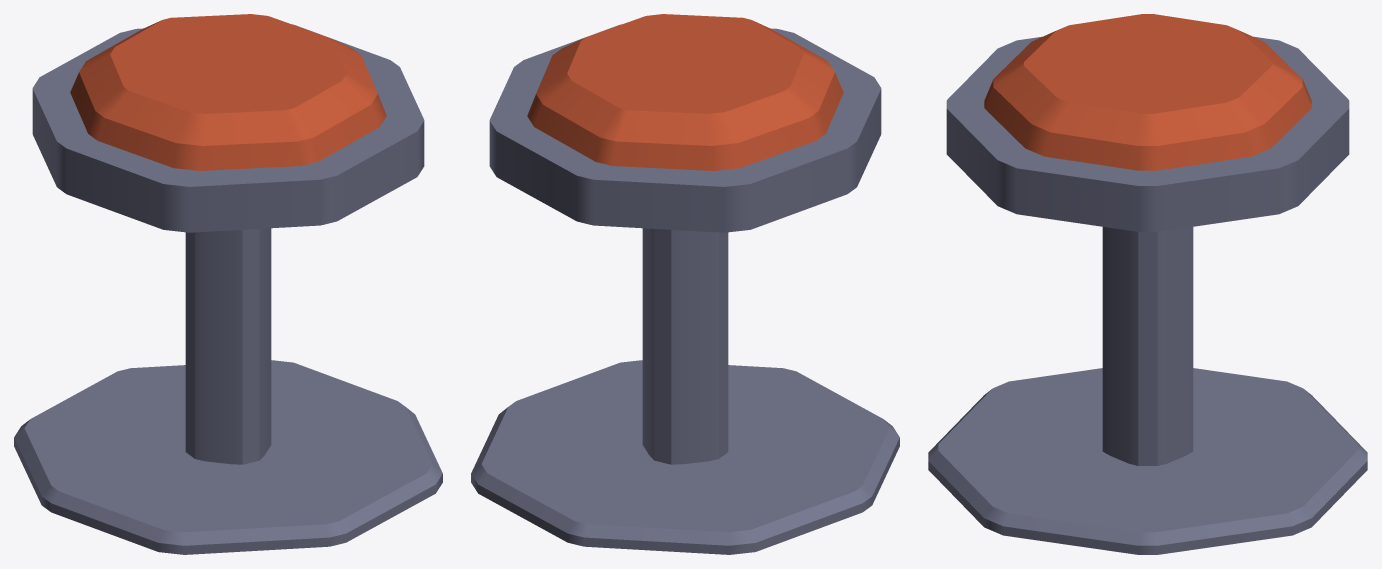
File: BarSeat.fbx
The picture shows the model from 3 angles, left to right: view 1: azimuth 30°, elevation 25°; view 2: azimuth 150°, elevation 25°; view 3: azimuth 270°, elevation 25°; orthographic projection.
Parts seen in each view (by area): view 1: pCube86; view 2: pCube86; view 3: pCube86.
Boxes of the visible parts, bbox=[...] form: pCube86: bbox=[14, 14, 442, 554]; pCube86: bbox=[471, 14, 899, 554]; pCube86: bbox=[928, 14, 1367, 554].
Bounding box in the file's own units: 0.8288 × 0.8715 × 0.8637.
